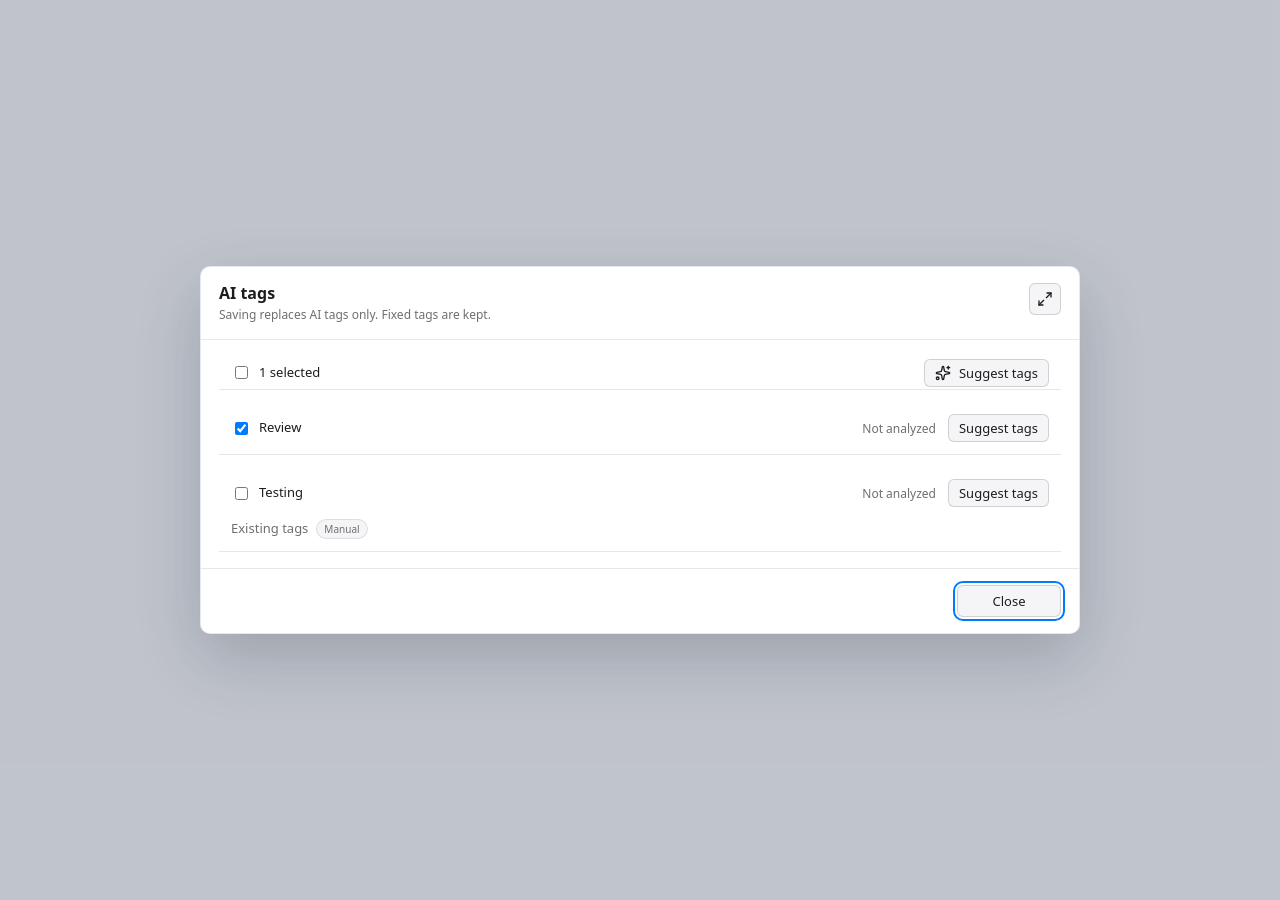
Test: AI tag review › stops queued generation without discarding completed suggestions and allows retry
This screenshot has width=1280, height=900.
Click the checkbox named "Select all". click: (242, 372)
box: [235,366,248,379]
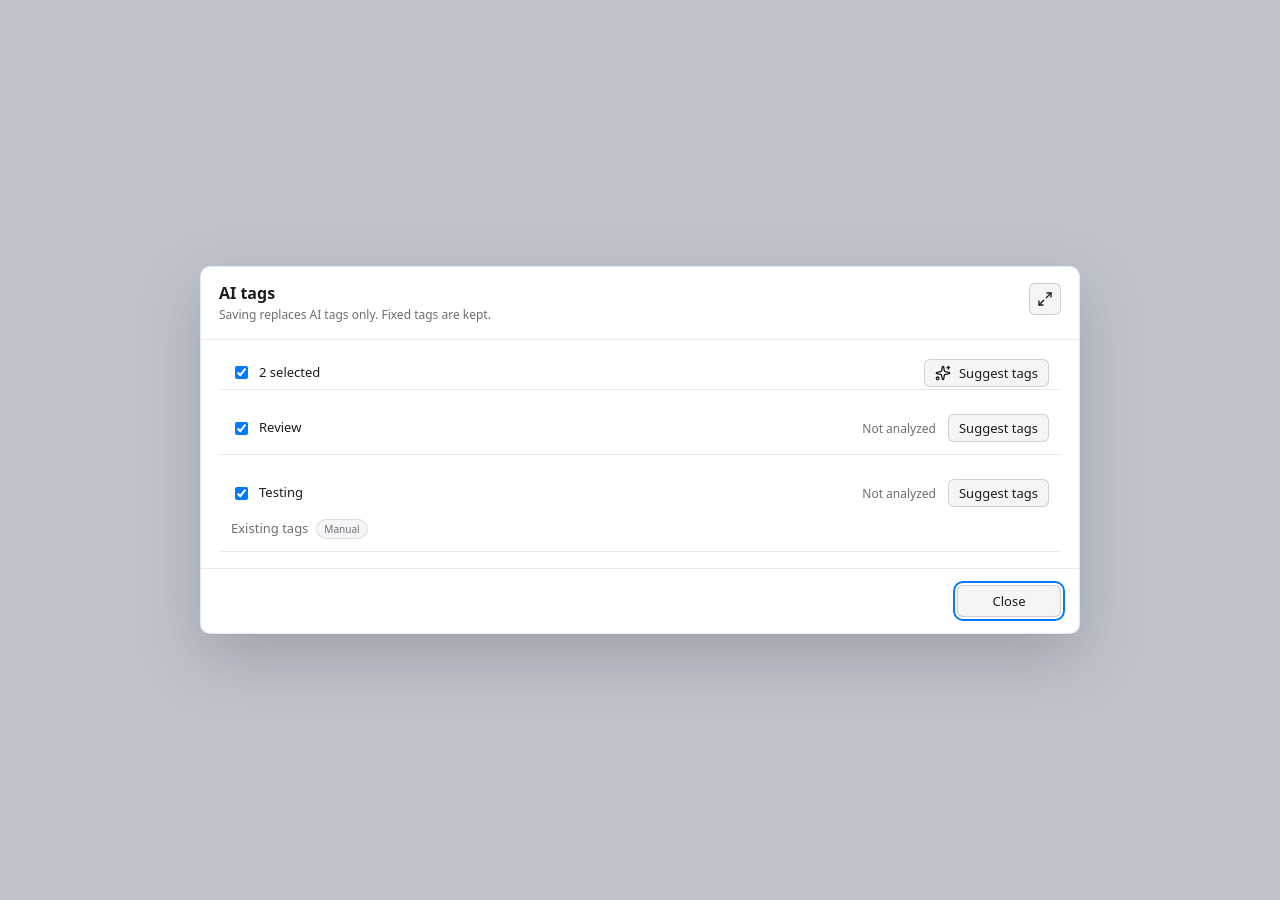
Click the button "Suggest tags" in the row of "2 selected". click: (986, 372)
box: [924,358,1049,386]
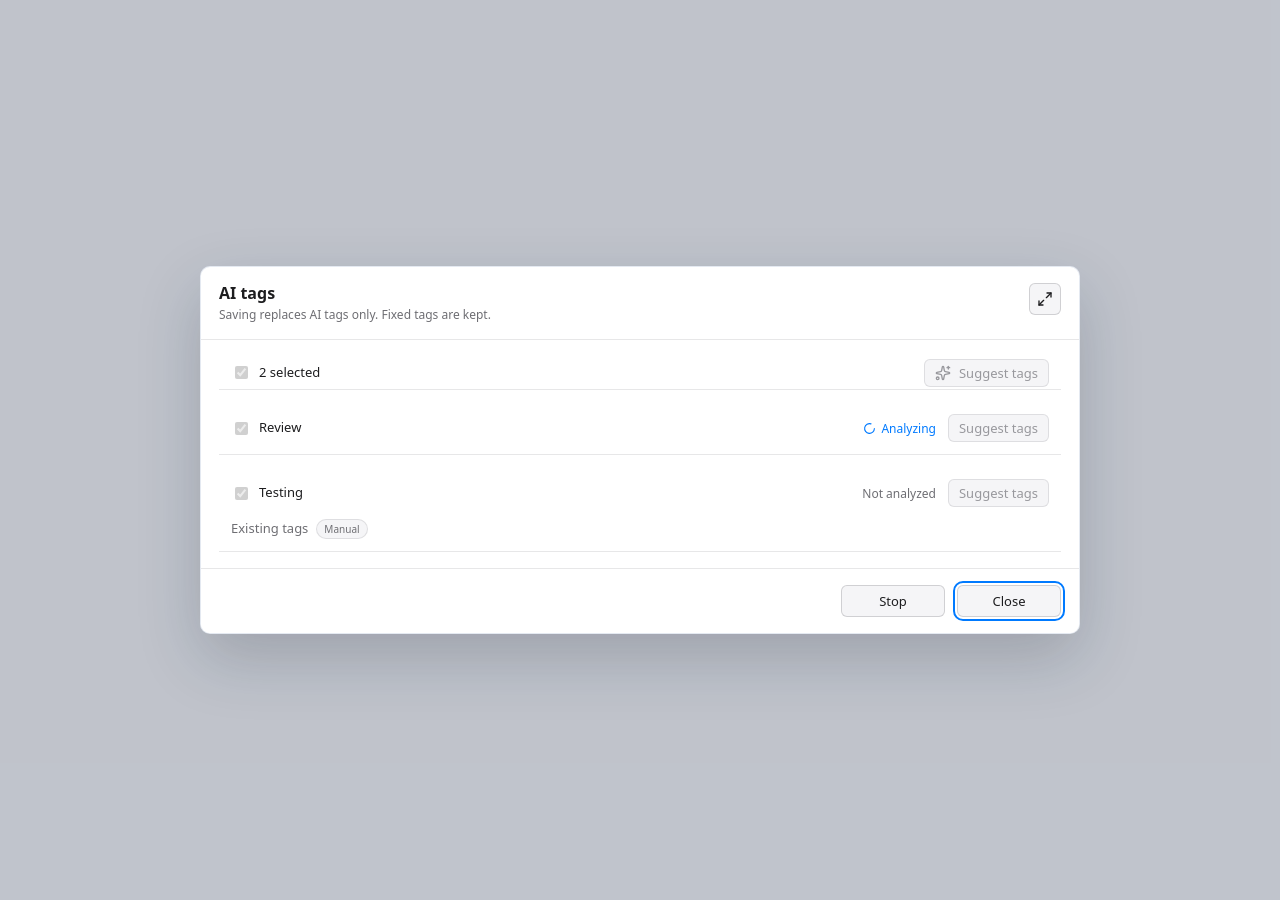
expect the text "Analyzing" is shown: met, box [881,420,936,436]
Click the button "Stop". click: (893, 601)
box: [841,585,945,617]
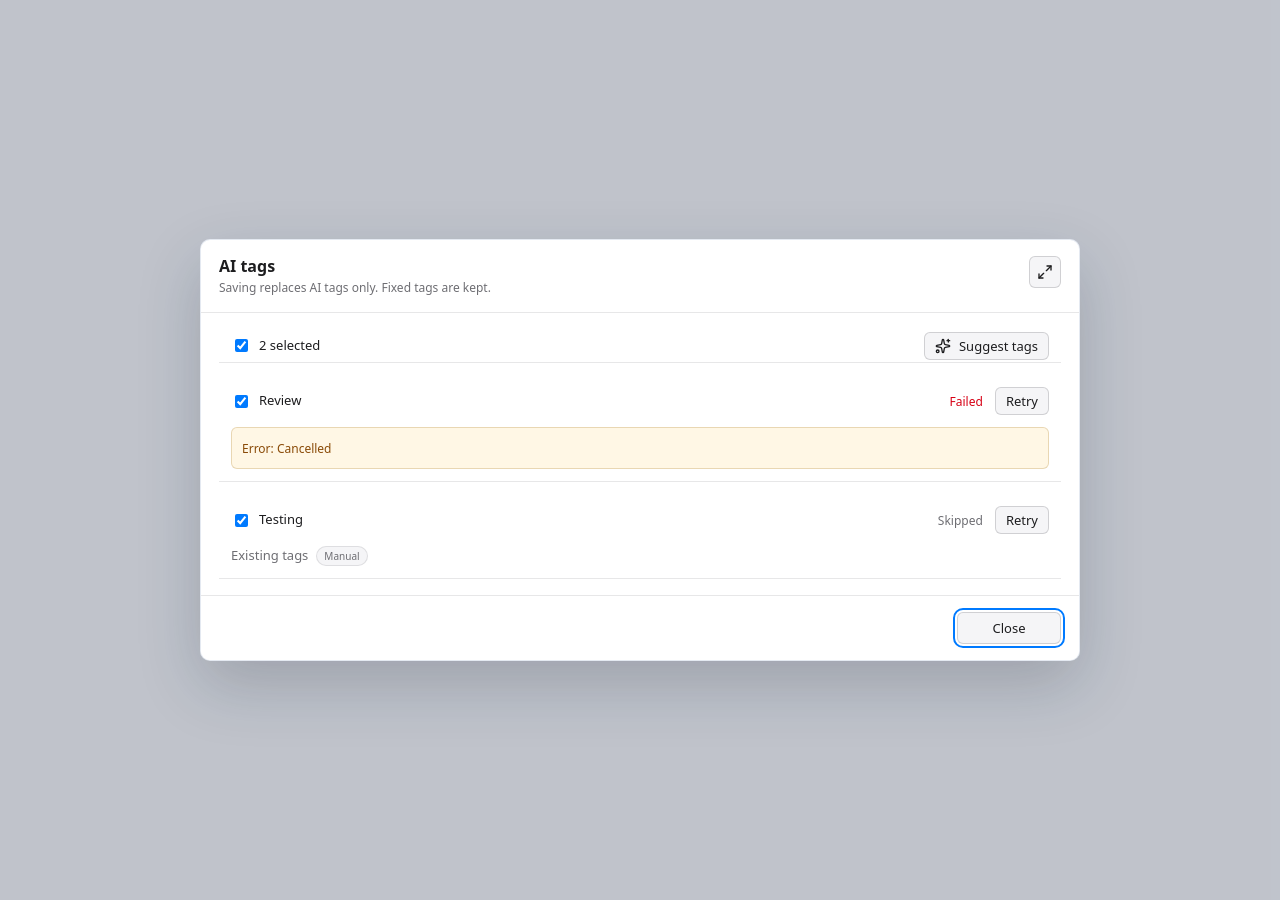
expect the text "Skipped" is shown: met, box [938,512,983,528]
expect the number of buttons "Retry" is 2: met, box [995,387,1049,415]; [995,506,1049,534]
